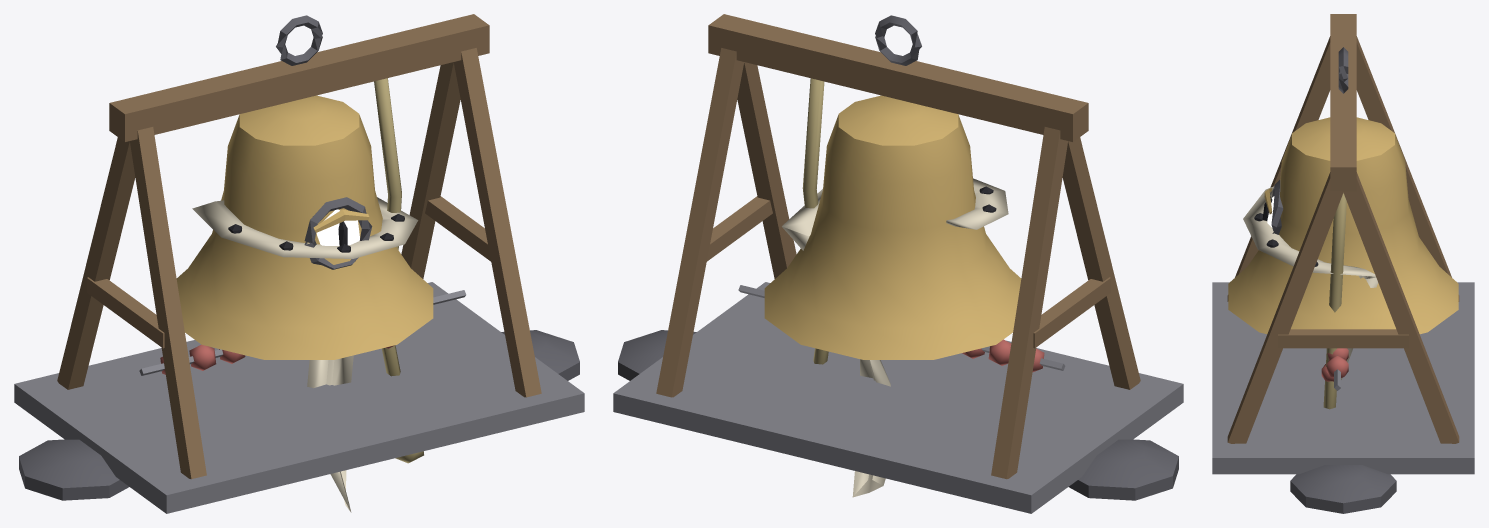
Rendered from bell-roll-call.glb.
3 renders of one model, left to right at view 1: azimuth 30°, elevation 25°; view 2: azimuth 150°, elevation 25°; view 3: azimuth 270°, elevation 25°, orthographic. The views are drawn at different scales.
Parts seen in each view (by area): view 1: bell_roll_call; view 2: bell_roll_call; view 3: bell_roll_call.
Boxes of the visible parts, bbox=[...] form: bell_roll_call: bbox=[14, 14, 584, 513]; bell_roll_call: bbox=[613, 14, 1183, 513]; bell_roll_call: bbox=[1212, 14, 1474, 513].
Bounding box in the file's own units: 0.9283 × 0.7934 × 0.446.
